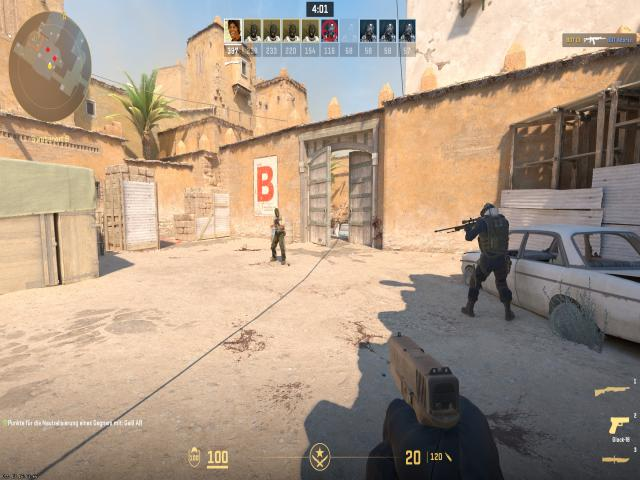CT: (472, 201, 511, 320)
CT-Head: (481, 204, 496, 217)
T: (271, 207, 288, 263)
T-Head: (273, 209, 282, 218)
